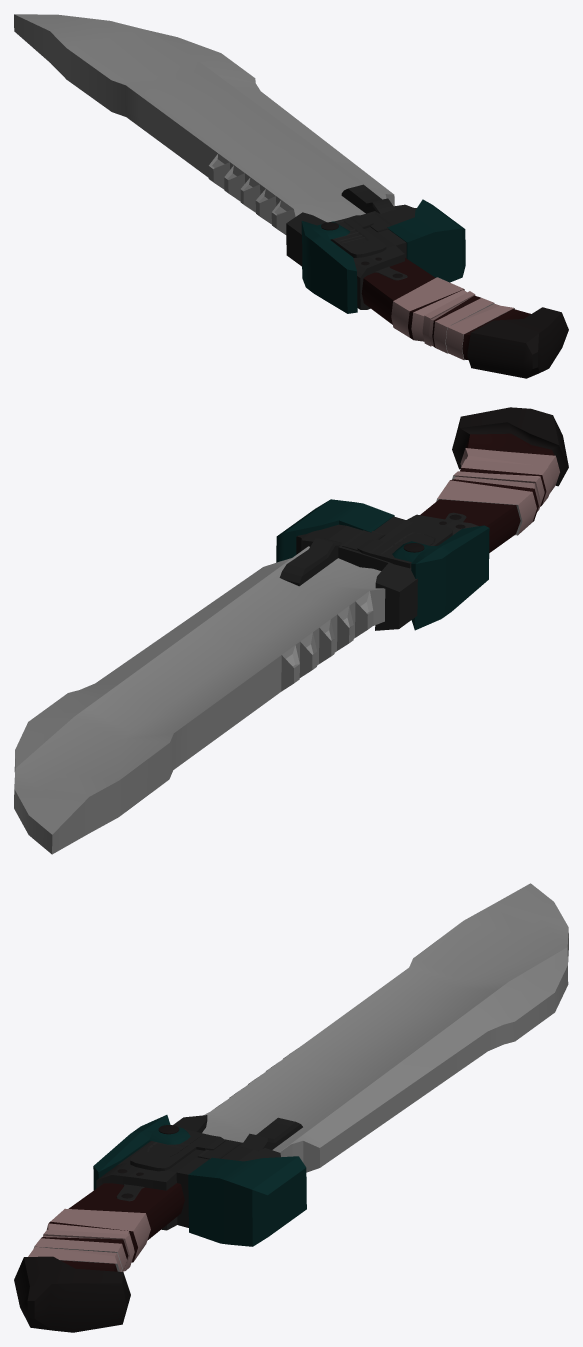
Rendered from SwordTest1.obj.
3 renders of one model, top to bottom at view 1: azimuth 30°, elevation 25°; view 2: azimuth 150°, elevation 25°; view 3: azimuth 330°, elevation 25°, orthographic. The views are drawn at different scales.
Visible parts, largest first — view 1: SwordModel Blade, Handle SwordModel, SwordModel GuardBottomPlate, SwordModel GuardTopPlate, SwordModel GuardMain, SwordModel GuardDetailPlate, SwordModel GuardBladeGrab; view 2: SwordModel Blade, Handle SwordModel, SwordModel GuardTopPlate, SwordModel GuardMain, SwordModel GuardBottomPlate, SwordModel GuardDetailPlate, SwordModel GuardBladeGrab; view 3: SwordModel Blade, Handle SwordModel, SwordModel GuardBottomPlate, SwordModel GuardMain, SwordModel GuardTopPlate, SwordModel GuardDetailPlate, SwordModel GuardBladeGrab.
Part boxes in pixels (bbox=[...]): SwordModel Blade: bbox=[14, 14, 394, 234]; Handle SwordModel: bbox=[361, 258, 568, 378]; SwordModel GuardBottomPlate: bbox=[387, 199, 465, 282]; SwordModel GuardTopPlate: bbox=[301, 221, 357, 313]; SwordModel GuardMain: bbox=[286, 204, 416, 309]; SwordModel GuardDetailPlate: bbox=[330, 215, 386, 257]; SwordModel GuardBladeGrab: bbox=[341, 184, 395, 213]; SwordModel Blade: bbox=[14, 546, 385, 854]; Handle SwordModel: bbox=[420, 407, 568, 552]; SwordModel GuardTopPlate: bbox=[392, 525, 489, 630]; SwordModel GuardMain: bbox=[296, 514, 478, 630]; SwordModel GuardBottomPlate: bbox=[276, 499, 394, 562]; SwordModel GuardDetailPlate: bbox=[357, 521, 452, 568]; SwordModel GuardBladeGrab: bbox=[279, 538, 342, 586]; SwordModel Blade: bbox=[202, 883, 568, 1172]; Handle SwordModel: bbox=[14, 1183, 184, 1332]; SwordModel GuardBottomPlate: bbox=[188, 1156, 306, 1246]; SwordModel GuardMain: bbox=[96, 1115, 280, 1230]; SwordModel GuardTopPlate: bbox=[93, 1115, 190, 1190]; SwordModel GuardDetailPlate: bbox=[130, 1129, 225, 1171]; SwordModel GuardBladeGrab: bbox=[240, 1117, 302, 1151].
Bounding box in the file's own units: 1.61 × 0.6858 × 9.69.
